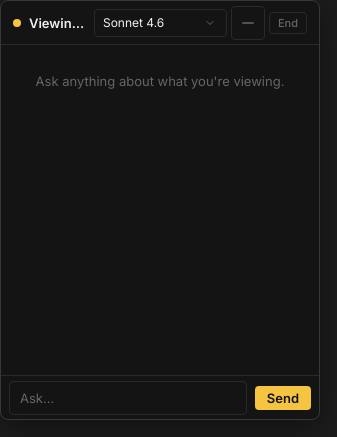
Test: ContextBotPanel › can cancel the end confirmation
The image size is (337, 437).
Click the button with test id "close-btn". click: (288, 22)
box: top-left (269, 12), bottom-right (307, 34)
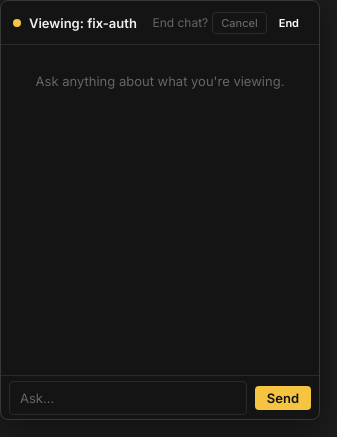
Now the text "End chat?" is shown, box top-left (152, 15), bottom-right (208, 30)
Click the button "Cancel". click: (239, 22)
box: top-left (212, 12), bottom-right (267, 34)
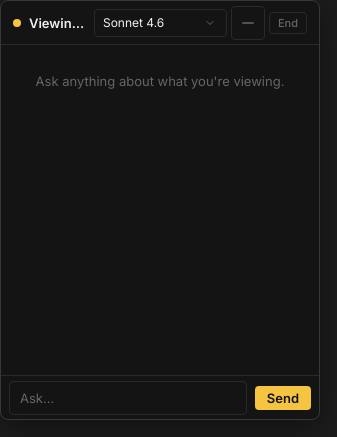
Now the text "End chat?" is gone
